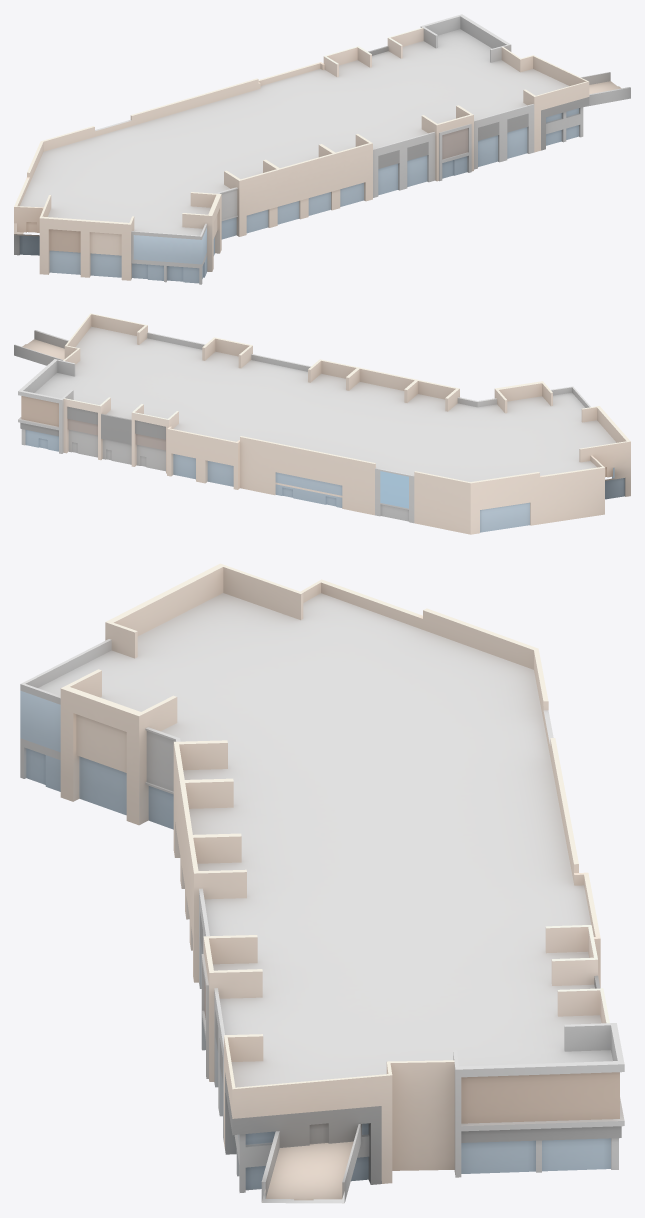
The picture shows the model from 3 angles, top to bottom: view 1: azimuth 30°, elevation 25°; view 2: azimuth 150°, elevation 25°; view 3: azimuth 270°, elevation 25°; orthographic projection. The views are drawn at different scales.
Visible parts, largest first — view 1: 70030076202504109.001; view 2: 70030076202504109.001; view 3: 70030076202504109.001.
Part boxes in pixels (left/top/right/bottom): 70030076202504109.001: left=14, top=14, right=630, bottom=284; 70030076202504109.001: left=14, top=313, right=630, bottom=534; 70030076202504109.001: left=20, top=563, right=624, bottom=1203.
Bounding box in the file's own units: 137 × 12.21 × 61.31.
Materials: 1 (1 with a texture image).
